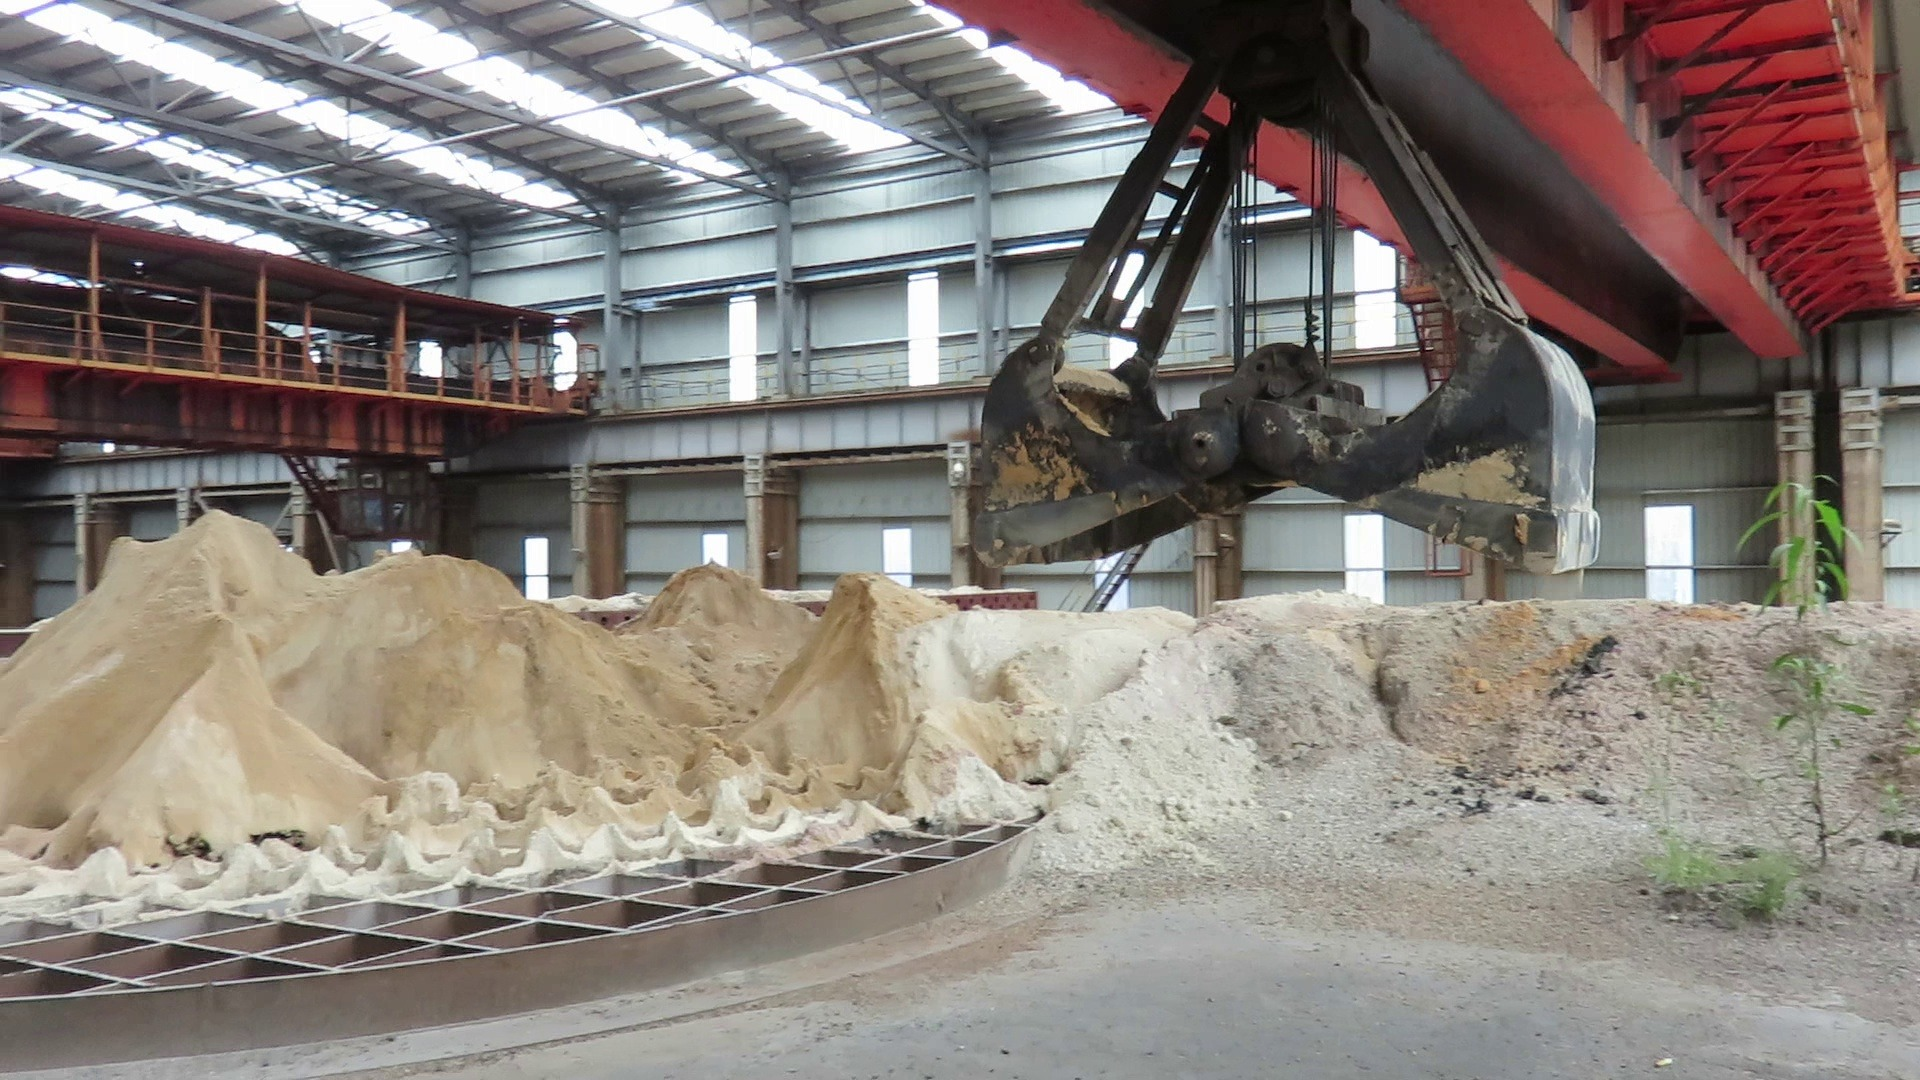grab: (960, 3, 1606, 582)
